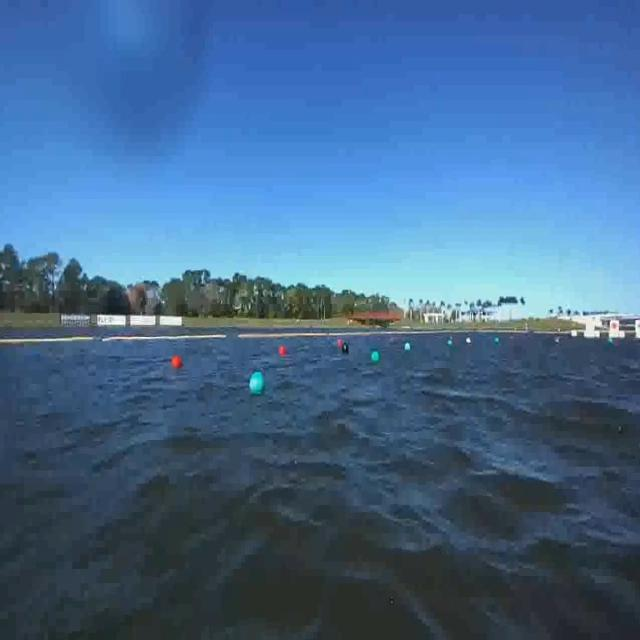green-buoy: (252, 369, 268, 395), (370, 350, 379, 364)
red-buoy: (172, 355, 183, 369), (280, 346, 286, 357)
